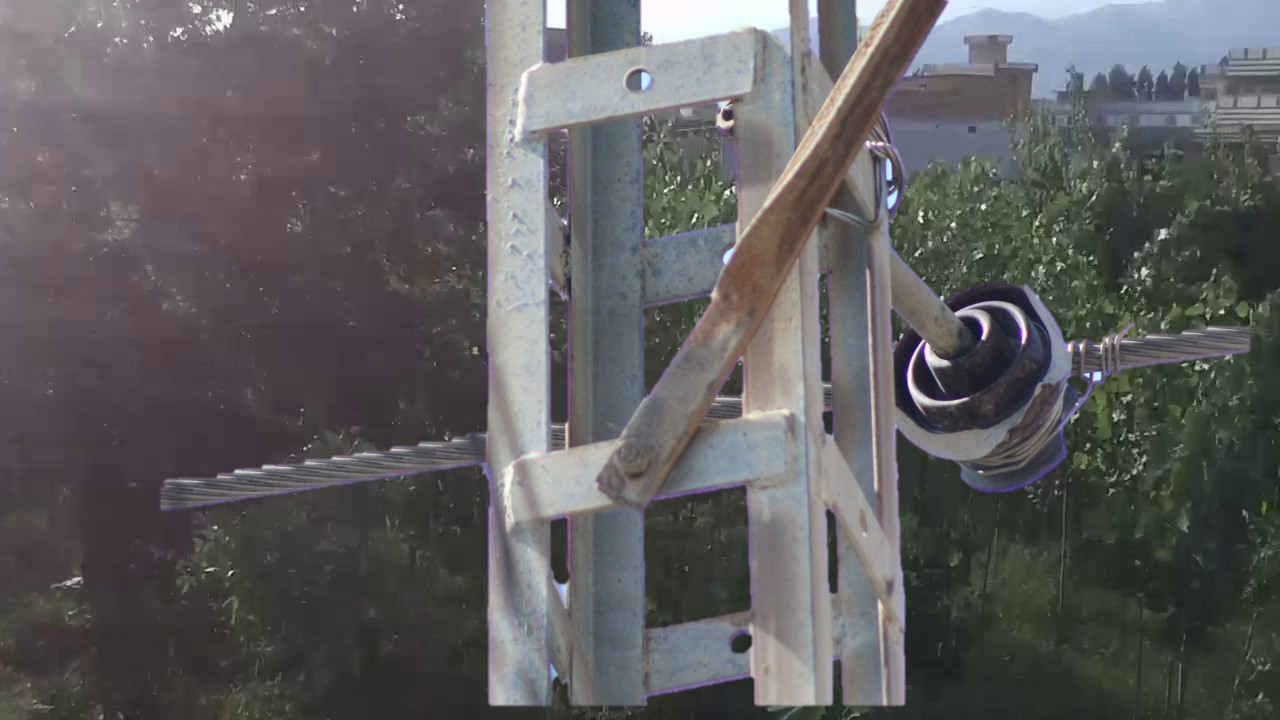defect_pin: (886, 277, 1093, 507)
